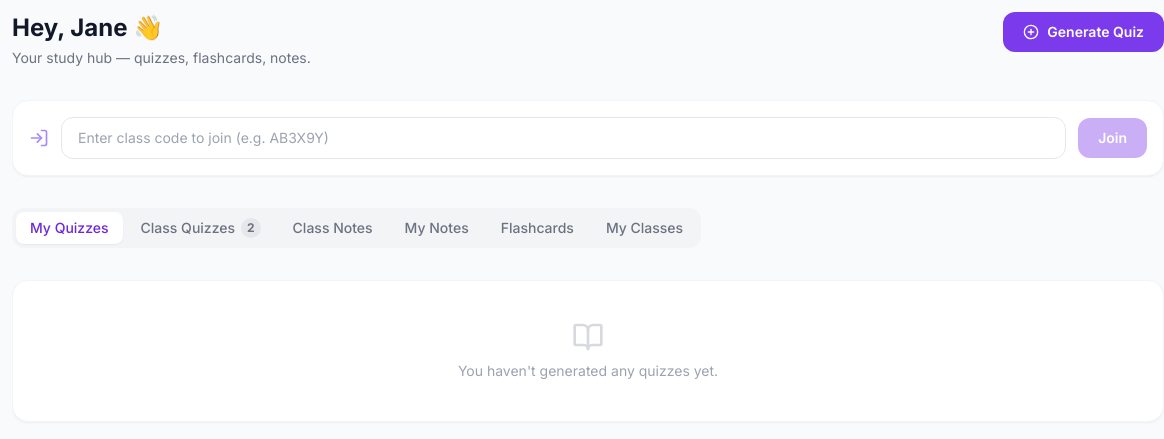
Test case: StudentDashboard - FEAT-008 Quiz Sharing › AC-8.1.3: Only is_shared=true quizzes from GET /classes/student/content are displayed › displays shared quizzes from joined classes
This screenshot has width=1164, height=439.
// Switch to class quizzes tab
Click the button "Class Quizzes 2" at (201, 228), box 127,212 -> 275,244
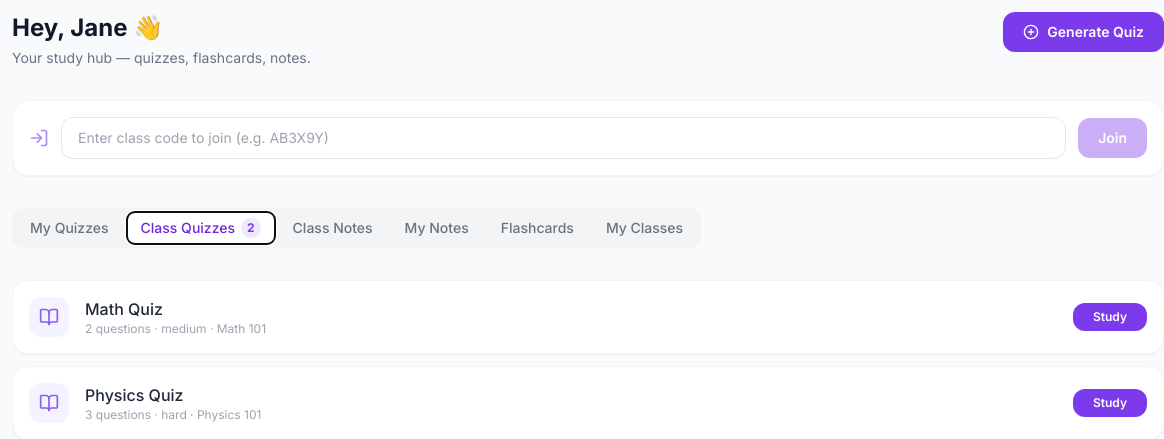
Expected: the text "Math Quiz" is shown, 85,299 -> 163,319
Expected: the text "Physics Quiz" is shown, 85,385 -> 184,405
Expected: the text "2 questions · medium · Math 101" is shown, 85,321 -> 266,336
